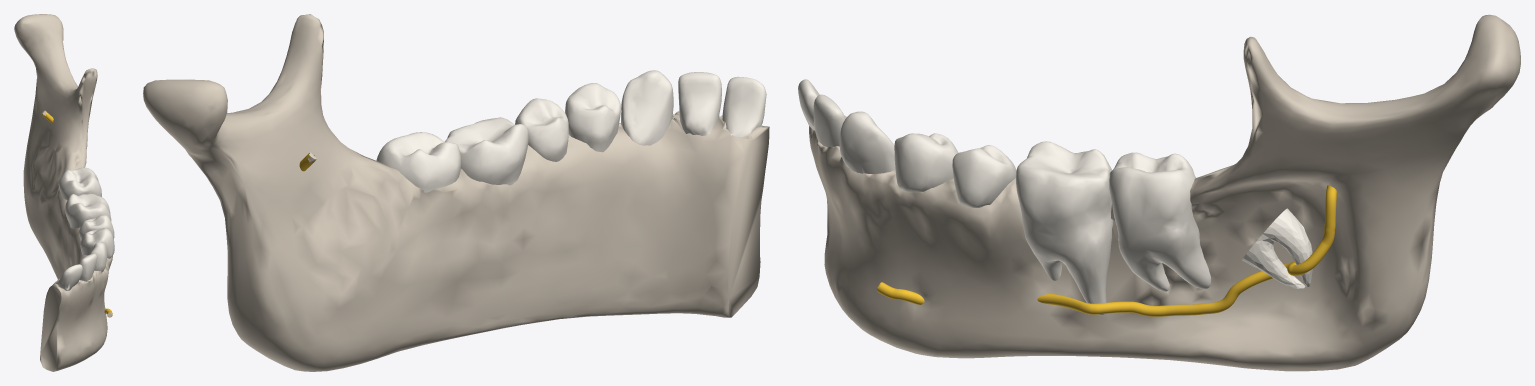
File: coronectomy-after.glb
The picture shows the model from 3 angles, left to right: view 1: azimuth 30°, elevation 25°; view 2: azimuth 150°, elevation 25°; view 3: azimuth 270°, elevation 25°; orthographic projection. The views are drawn at different scales.
Visible parts, largest first — view 1: mandible left, teeth_2, nerve_2; view 2: mandible left, teeth_2; view 3: mandible left, teeth_2, nerve_2, wisdom tooth roots.
Boxes of the visible parts, box(x1,y1,x2,y2) form: mandible left: box(14, 14, 112, 371); teeth_2: box(55, 167, 114, 290); nerve_2: box(42, 111, 112, 316); mandible left: box(143, 14, 769, 371); teeth_2: box(376, 70, 766, 192); mandible left: box(809, 14, 1520, 371); teeth_2: box(798, 79, 1210, 315); nerve_2: box(877, 185, 1336, 316); wisdom tooth roots: box(1242, 208, 1312, 288).
Size of the model in its own units: 0.0913 by 0.1057 by 0.1665.
